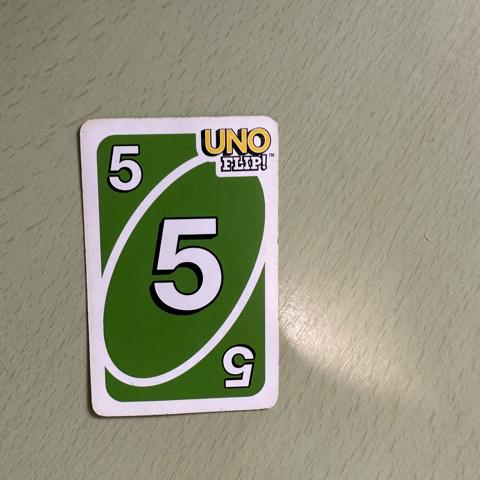lgreen-5: (92, 130, 165, 210)
